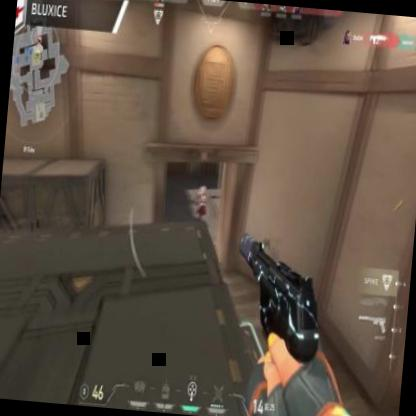enemy: (194, 184, 209, 230)
enemy_head: (201, 186, 206, 196)
